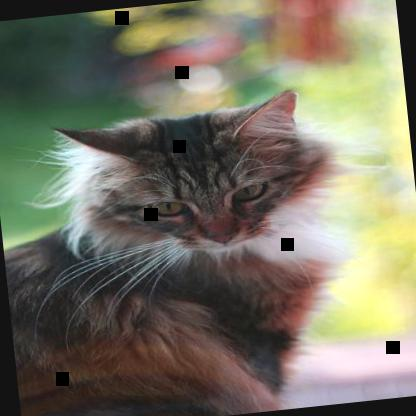cat: (0, 85, 360, 415)
